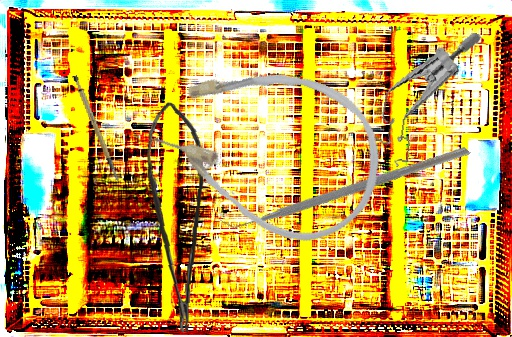Cannula: (135, 32, 404, 262)
Chopper: (214, 52, 471, 316)
Micro Scissor: (136, 100, 208, 334)
Scalpel Handle: (71, 71, 119, 186)
Speculum: (368, 17, 484, 179)
